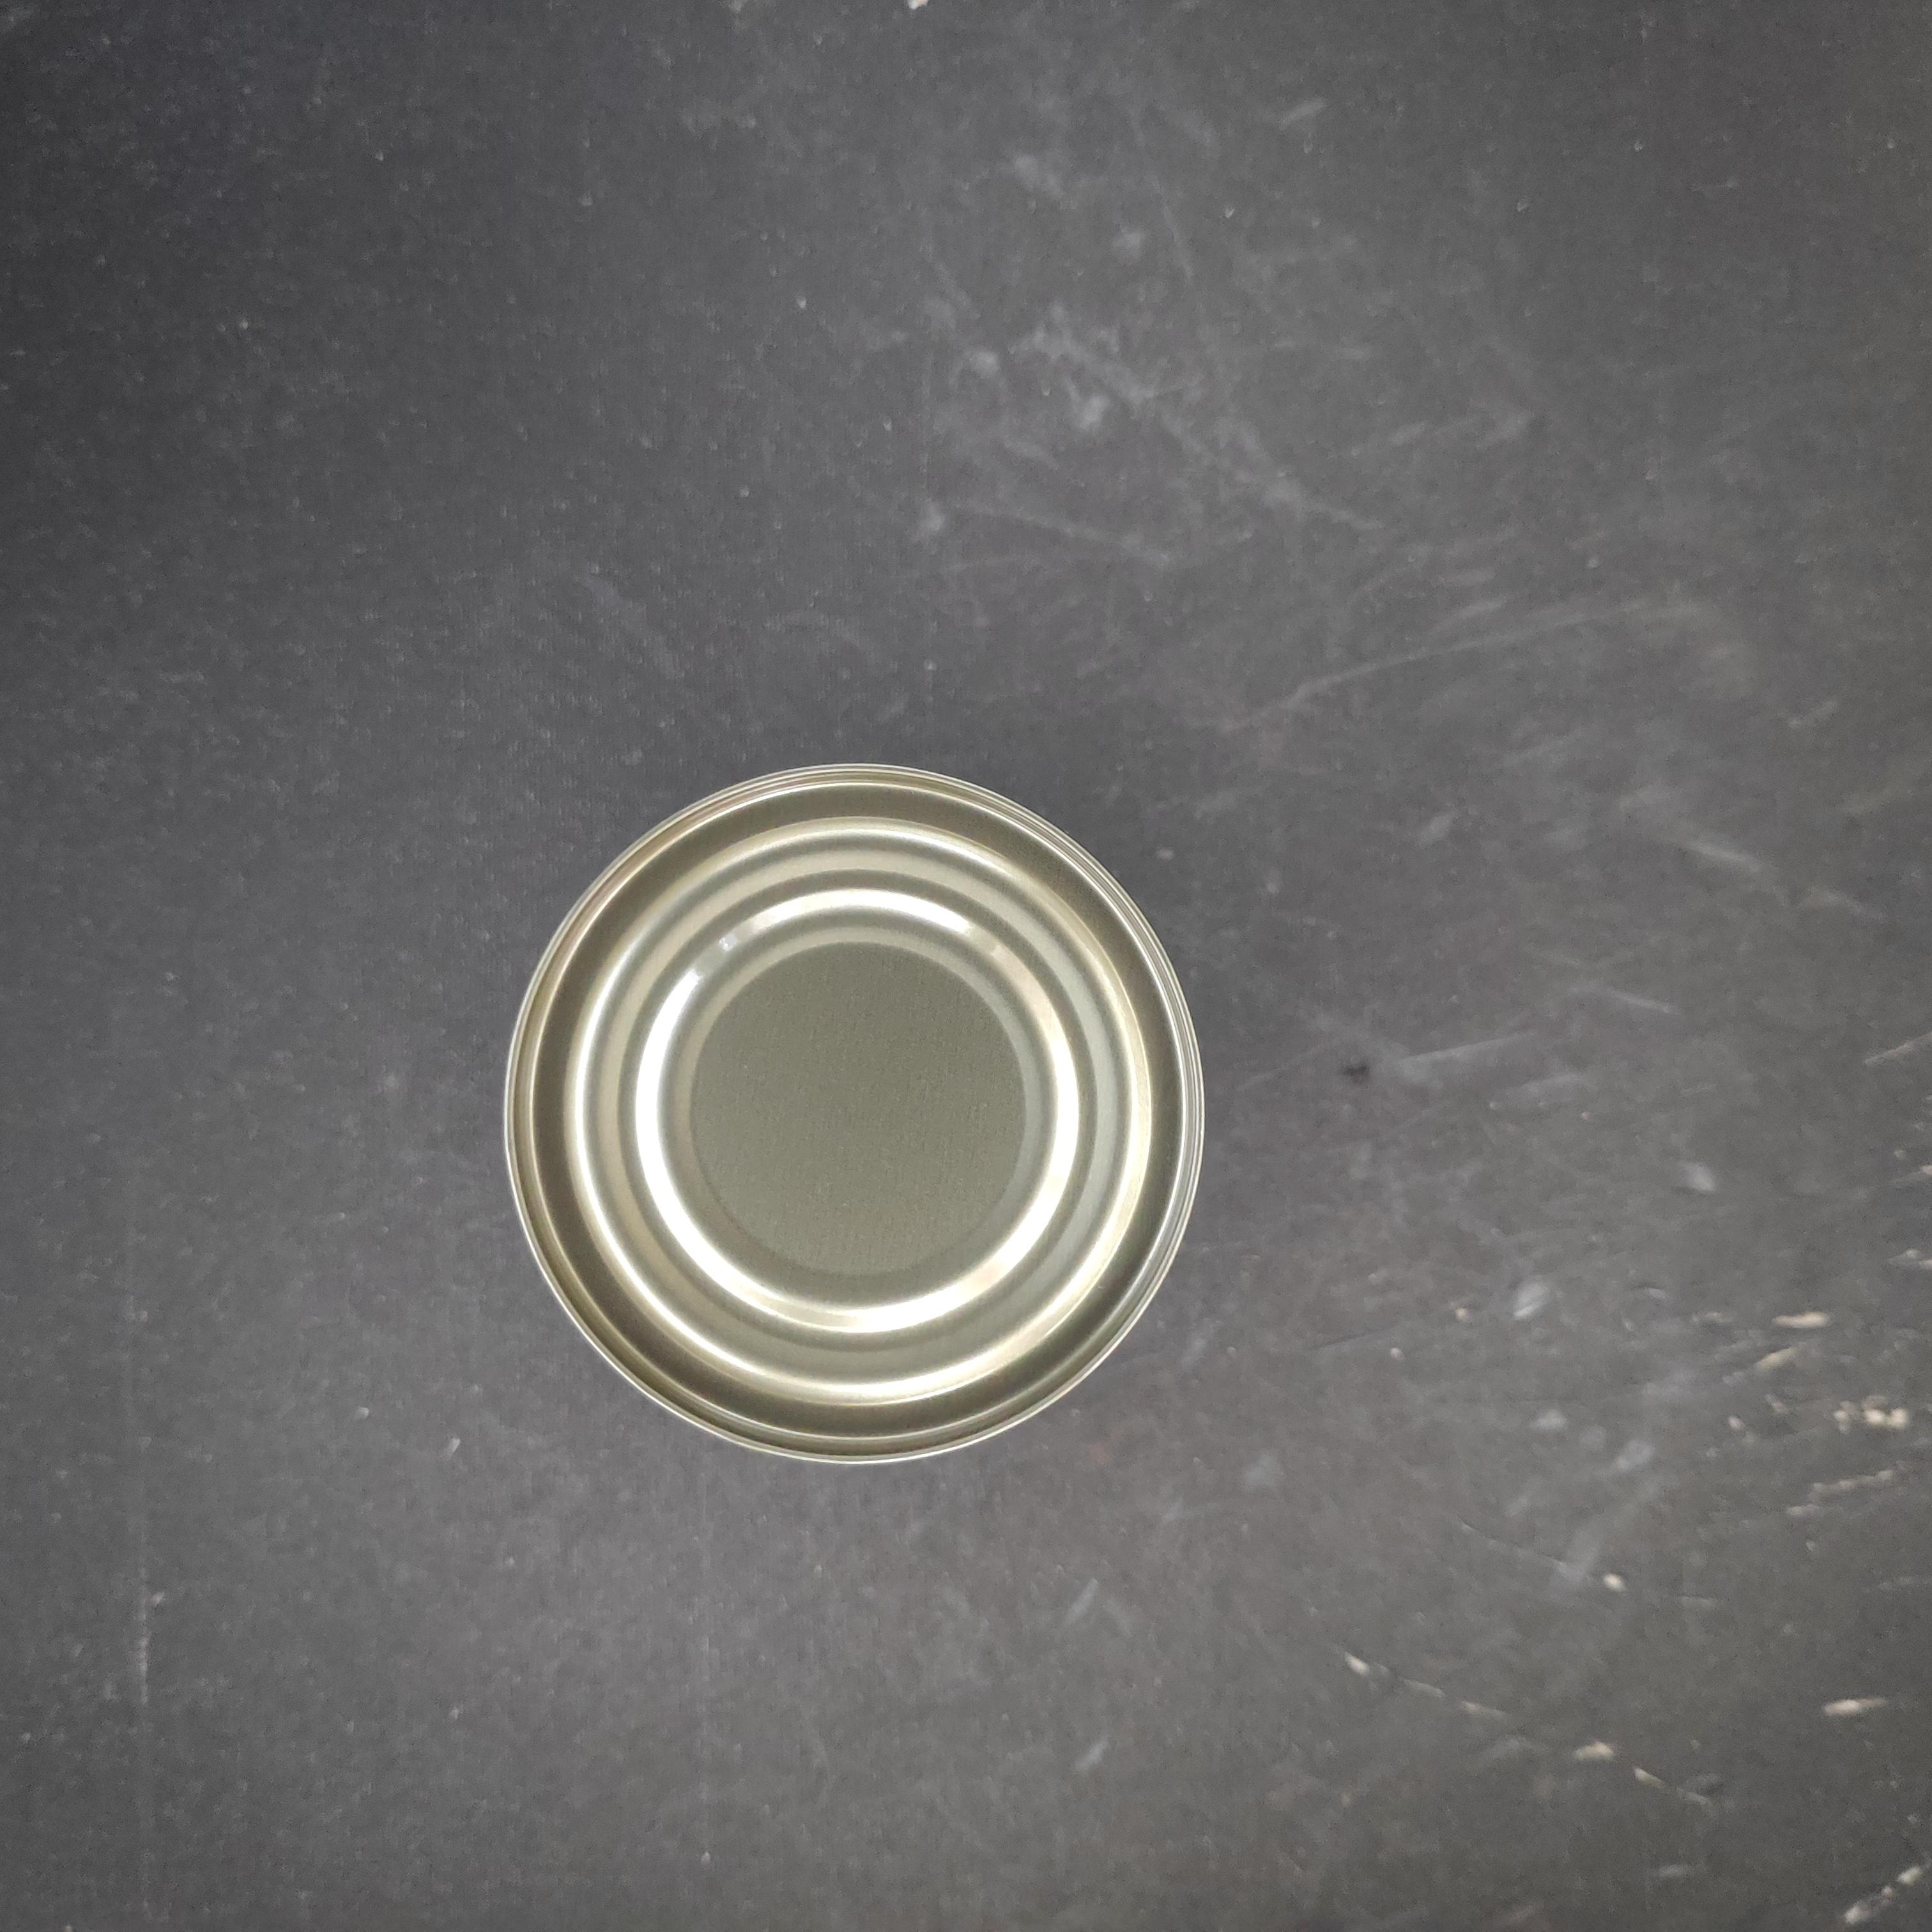No defect: (465, 499, 1175, 1214)
